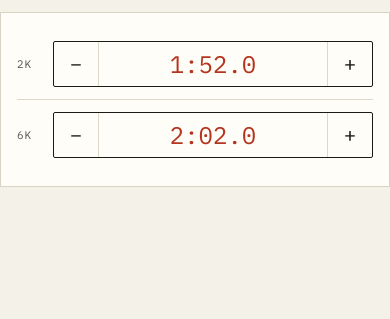
Test case: BaselineEditor › applying saves the typed field exactly once, stamped manual, and settles the confirm block
The image size is (390, 319).
Type "151" into the field named "2k split" at (213, 64), box left=107, top=42, right=319, bottom=86
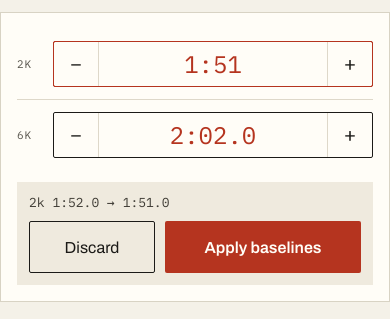
Click the button "Apply baselines" at (263, 247), box left=165, top=221, right=361, bottom=273
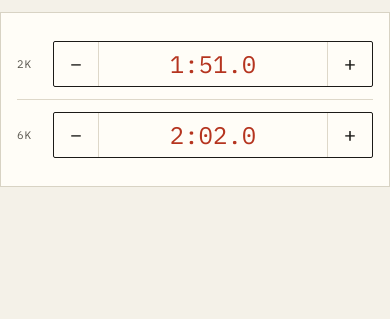
Expected: the text "→" is gone
